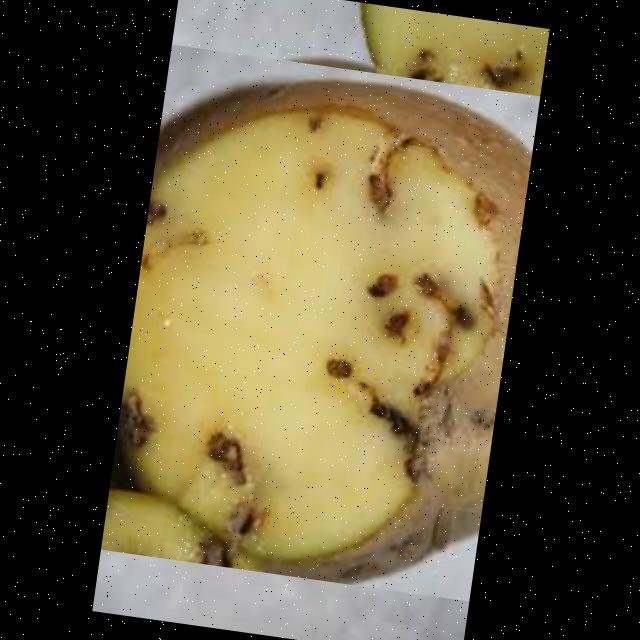Defected potato: (331, 2, 549, 169)
Diseased-fungal potato: (100, 44, 539, 602)
